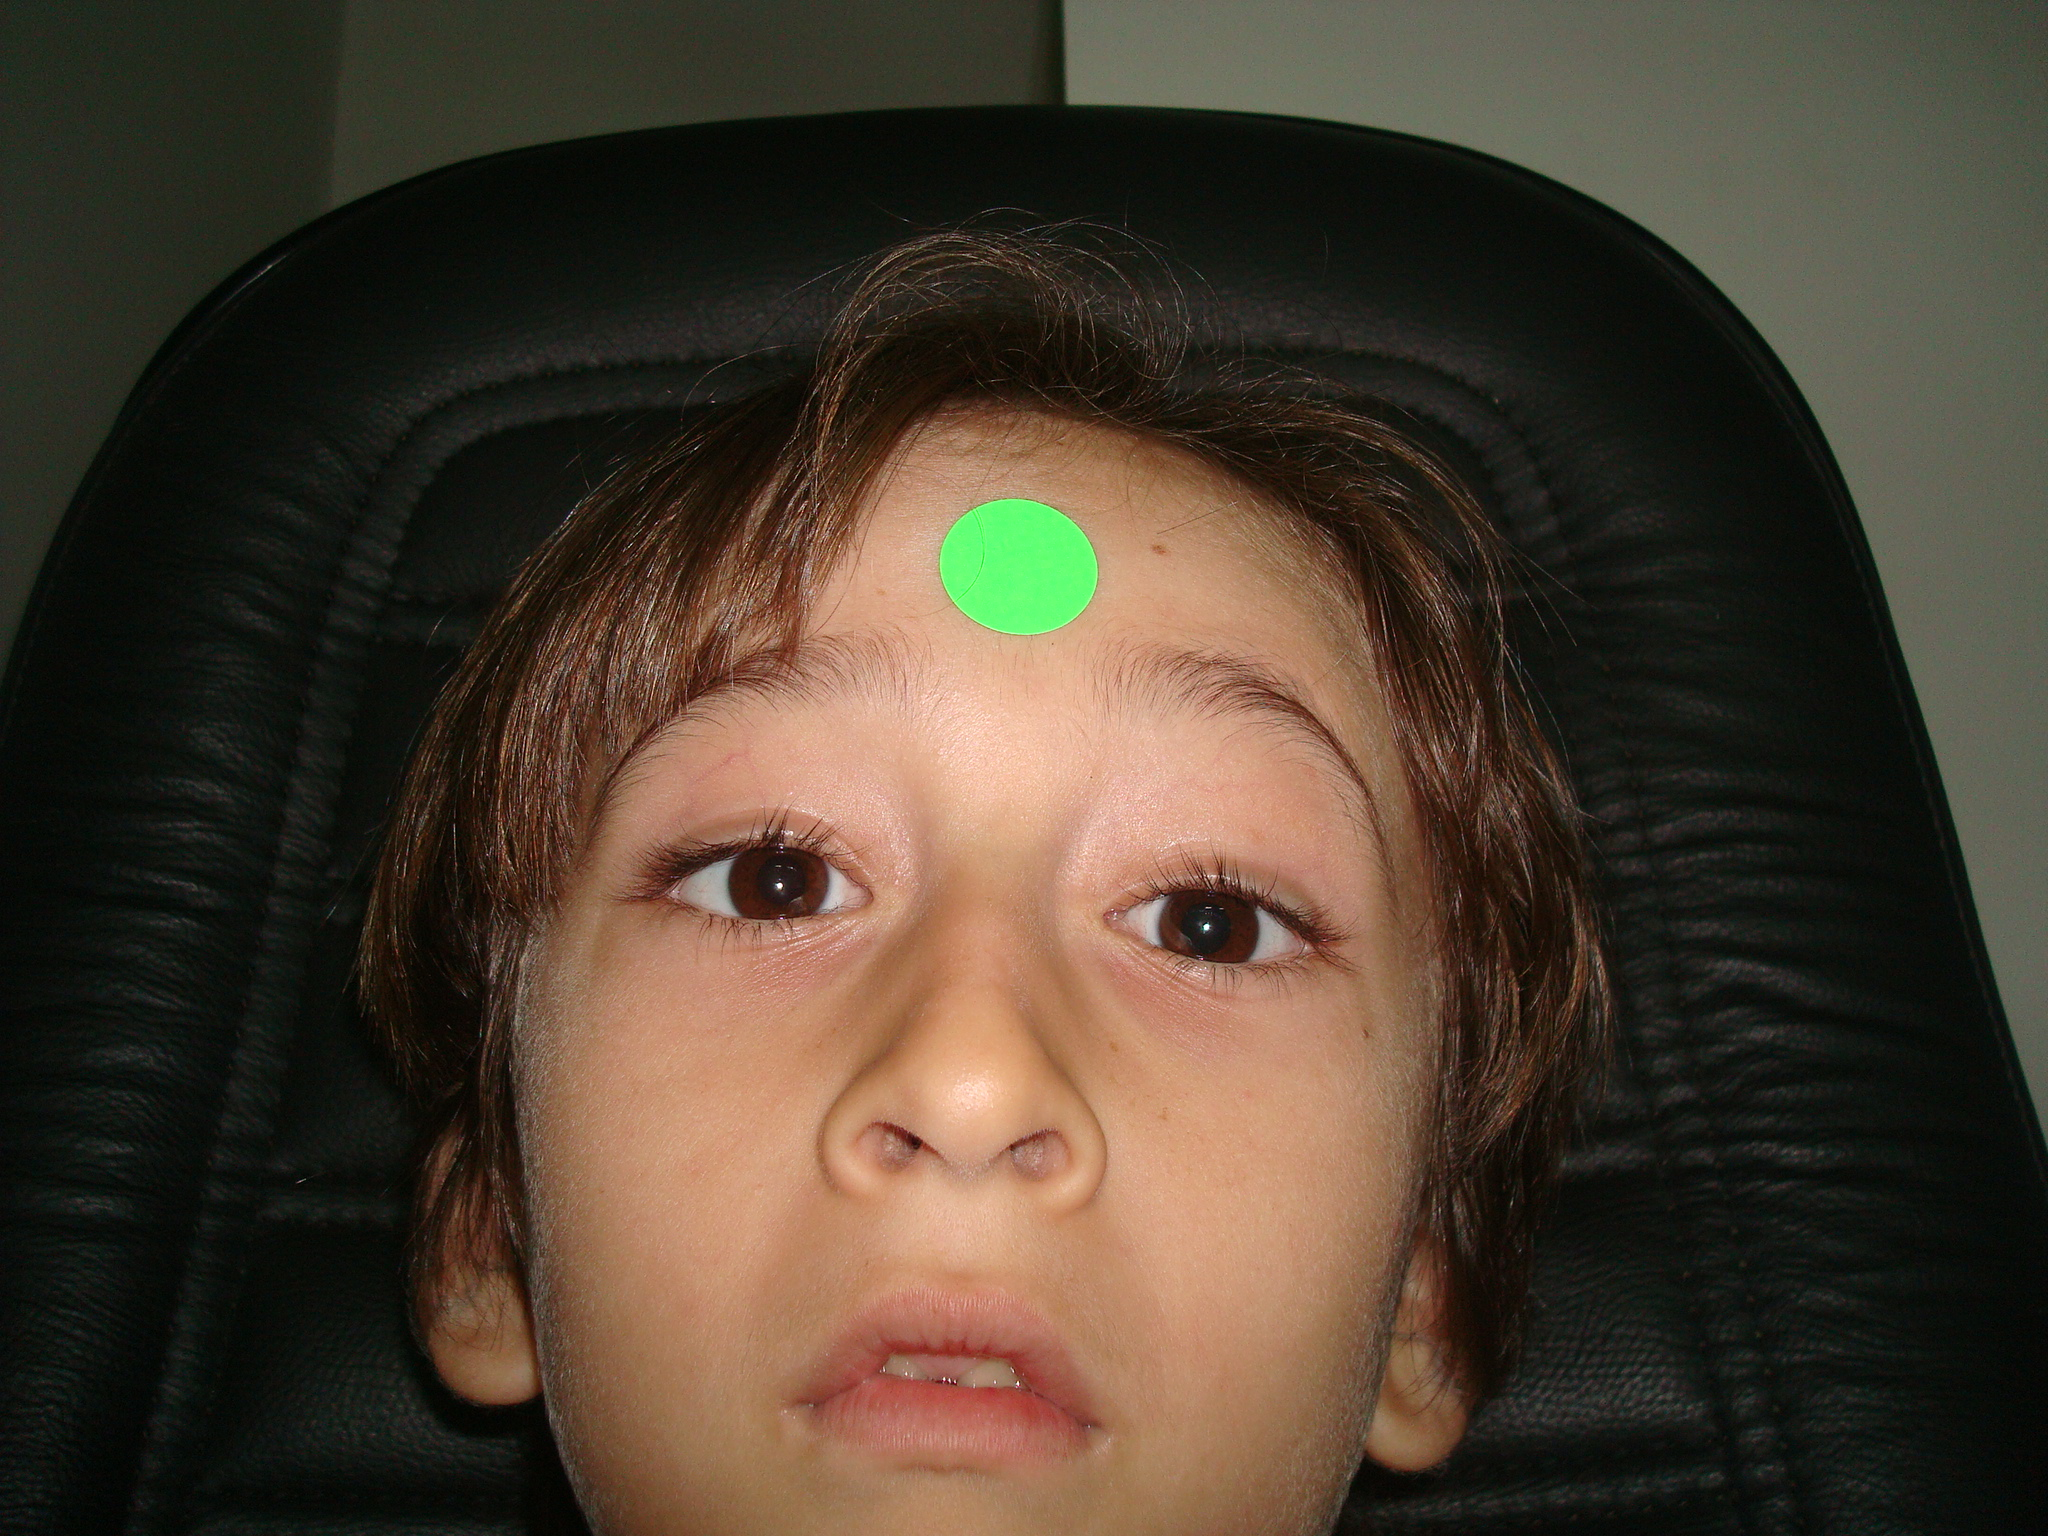flash: (774, 879, 785, 894), (1203, 921, 1209, 933)
limbo: (1155, 886, 1258, 971), (727, 841, 835, 921)
